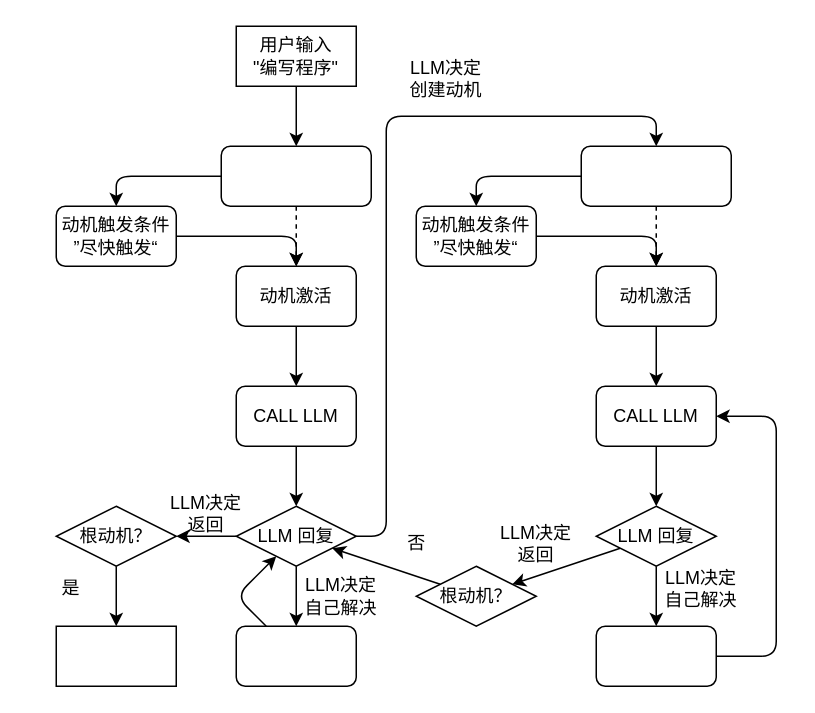
Some shapes in this 815 by 713 pixel diagram are drawn without their labels. Here are the shapes that lost their labels. From the top down, the box of each, then its label:
(220, 145, 371, 206): 创建动机 "处理用户输入"
(580, 145, 731, 206): 创建动机 "编写程序"
(55, 625, 176, 686): END
(235, 625, 356, 686): 工具调用 ”向用户发送“
(595, 625, 716, 686): 工具调用 ”写入文件“
